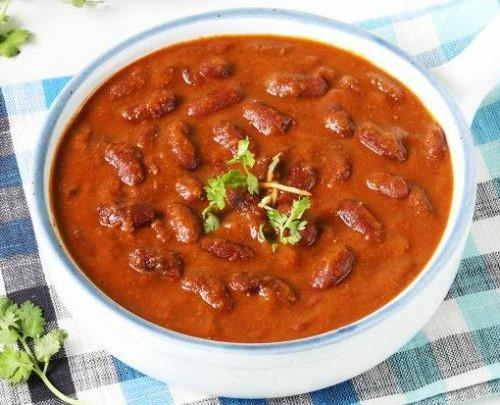RajmaCurry: (50, 33, 456, 342)
